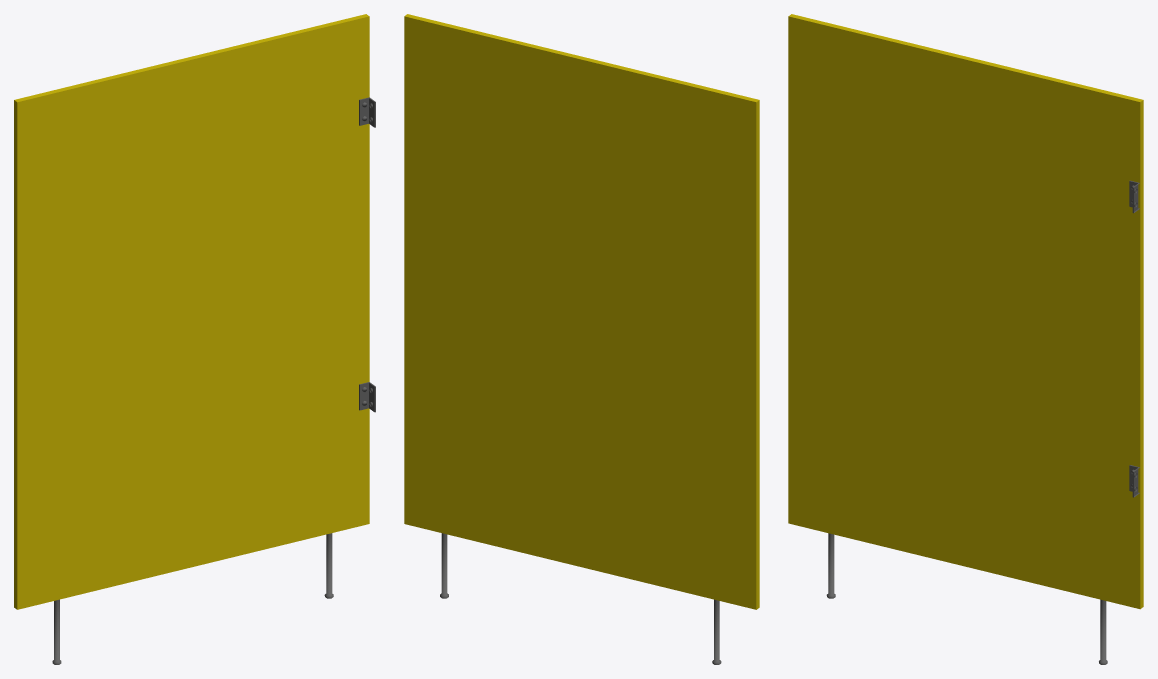
File: SNWP_MOD_BUN_Stall_wall_01.fbx
3 views of the same model, side by side, from view 1: azimuth 30°, elevation 25°; view 2: azimuth 150°, elevation 25°; view 3: azimuth 330°, elevation 25° (orthographic).
Parts seen in each view (by area): view 1: SNWP_MOD_Stall_wall_01; view 2: SNWP_MOD_Stall_wall_01; view 3: SNWP_MOD_Stall_wall_01.
Boxes of the visible parts, left/top/right/bottom form: SNWP_MOD_Stall_wall_01: left=14, top=14, right=375, bottom=664; SNWP_MOD_Stall_wall_01: left=404, top=14, right=759, bottom=664; SNWP_MOD_Stall_wall_01: left=788, top=14, right=1143, bottom=664.
Size of the model in its own units: 1.23 by 1.91 by 0.0619.
